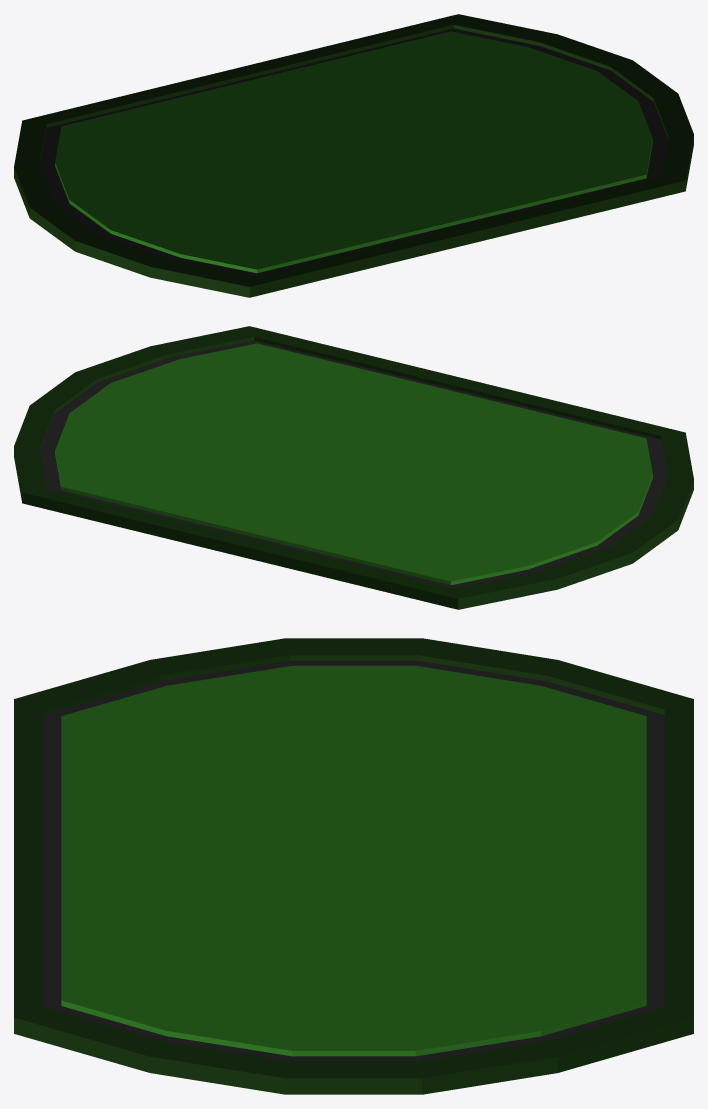
File: Octagonal Mat.fbx
3 renders of one model, top to bottom at view 1: azimuth 30°, elevation 25°; view 2: azimuth 150°, elevation 25°; view 3: azimuth 270°, elevation 25°, orthographic. The views are drawn at different scales.
Parts seen in each view (by area): view 1: Node 0; view 2: Node 0; view 3: Node 0.
Part boxes in pixels (x1,y1,x2,y2): Node 0: (14,14,693,297); Node 0: (14,326,693,609); Node 0: (14,638,693,1094).
Bounding box in the file's own units: 1.45 × 0.0385 × 2.22.
